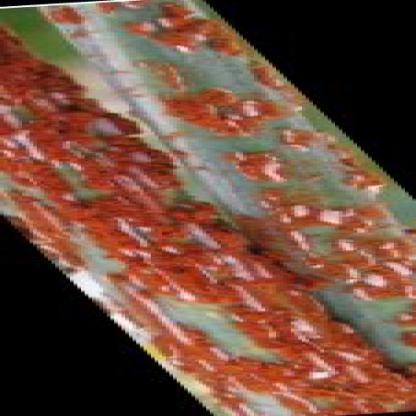wheat Stem Rust: (47, 200, 229, 246), (106, 256, 276, 289), (253, 198, 395, 236), (25, 157, 180, 189), (216, 387, 416, 410), (152, 96, 295, 128), (294, 246, 399, 288), (209, 292, 320, 323), (21, 114, 120, 148), (204, 367, 414, 383), (141, 15, 230, 50), (265, 336, 379, 362), (15, 69, 80, 108), (220, 153, 305, 181), (161, 330, 232, 358), (36, 6, 99, 34), (333, 159, 383, 192), (144, 62, 196, 86), (235, 62, 280, 86), (276, 132, 328, 145), (349, 292, 410, 301), (378, 338, 416, 352), (3, 45, 28, 62), (378, 314, 416, 323)
